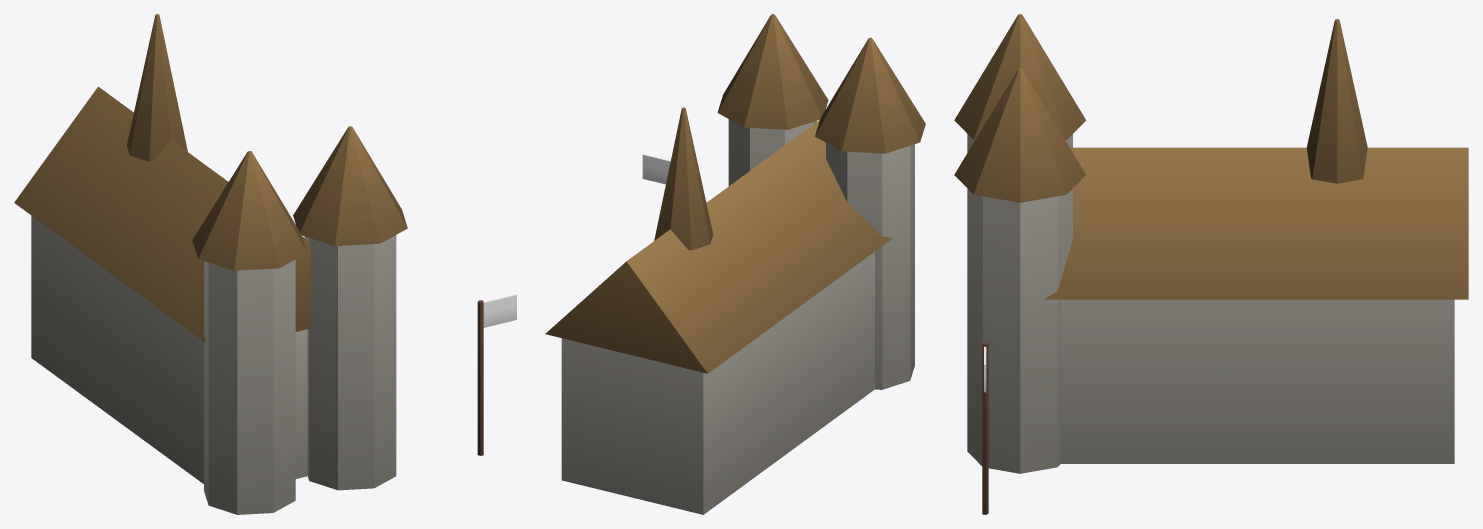
The model's file is BASE_VIKING.glb.
The picture shows the model from 3 angles, left to right: view 1: azimuth 30°, elevation 25°; view 2: azimuth 150°, elevation 25°; view 3: azimuth 270°, elevation 25°; orthographic projection. The views are drawn at different scales.
Visible parts, largest first — view 1: Body, Flag; view 2: Body, Flag; view 3: Body.
Part boxes in pixels (box(x1,y1,x2,y2)): Body: box(14, 14, 483, 514); Flag: box(483, 294, 516, 327); Body: box(545, 14, 925, 514); Flag: box(642, 154, 670, 184); Body: box(954, 14, 1468, 514).
Size of the model in its own units: 3.3 by 3.8 by 4.38.
1 material, 1 textured.
